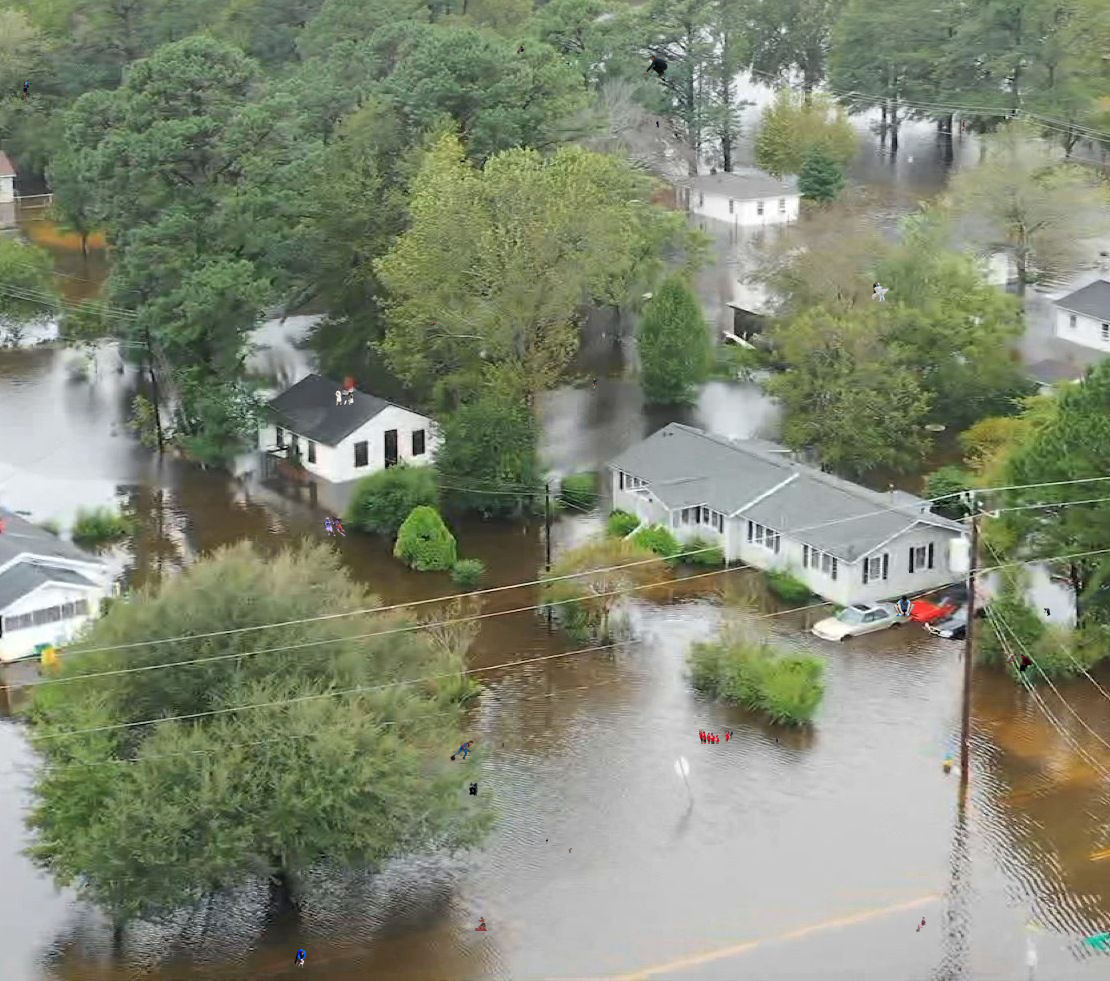Human: (643, 55, 668, 77), (450, 740, 474, 762), (699, 729, 733, 744), (893, 595, 915, 618), (323, 515, 346, 537), (1006, 653, 1032, 671), (871, 281, 890, 304), (335, 388, 354, 406), (294, 949, 306, 968), (23, 79, 33, 100), (475, 917, 487, 931), (916, 917, 926, 932), (585, 378, 597, 389), (469, 782, 478, 796), (81, 884, 98, 889), (517, 46, 526, 54), (1044, 608, 1051, 616), (962, 120, 966, 131), (430, 322, 436, 326), (656, 121, 659, 128), (568, 848, 572, 853), (805, 632, 807, 640), (952, 71, 955, 76), (775, 738, 778, 743), (502, 743, 504, 748), (546, 839, 548, 844), (386, 335, 389, 338), (852, 647, 855, 650)
